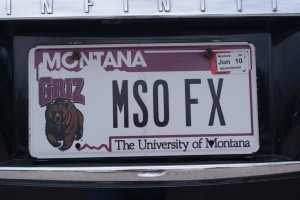license plate: (25, 43, 260, 156)
